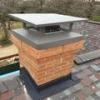chimneys: (10, 13, 86, 87)
